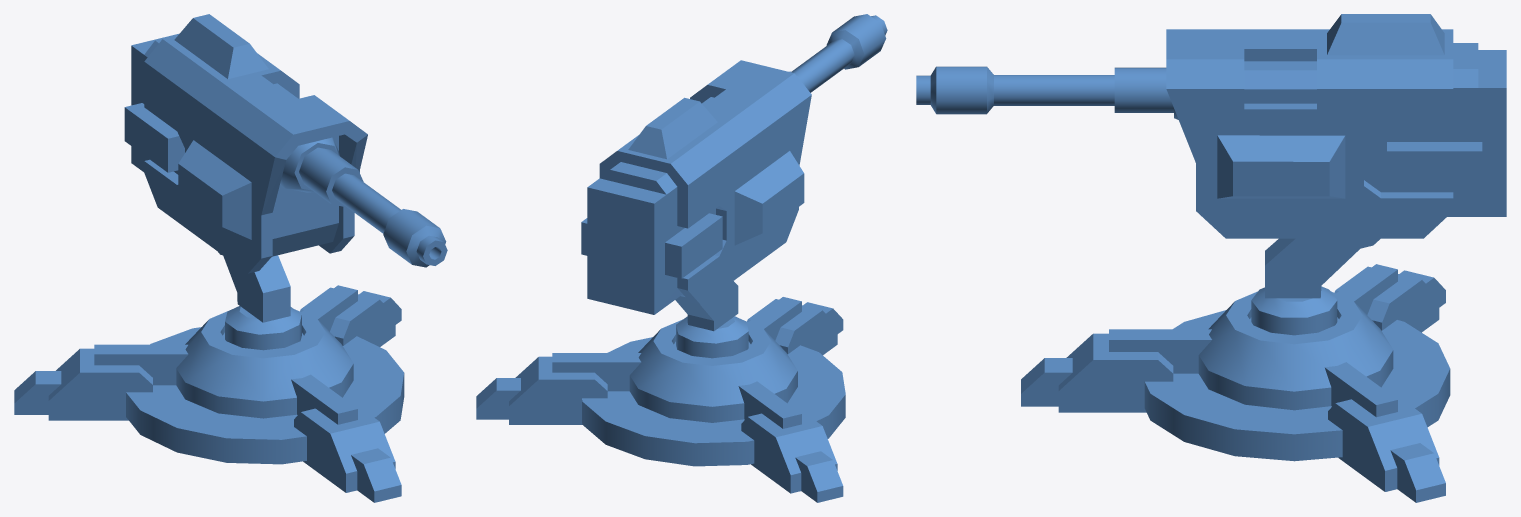
File: auto_turret_machine_gun_level_1.fbx
3 views of the same model, side by side, from view 1: azimuth 30°, elevation 25°; view 2: azimuth 150°, elevation 25°; view 3: azimuth 270°, elevation 25° (orthographic). The views are drawn at different scales.
Parts seen in each view (by area): view 1: base, main_part, pivoting_arm, cannon; view 2: base, main_part, pivoting_arm, cannon; view 3: main_part, base, pivoting_arm, cannon, breech.
Part boxes in pixels (left/top/right/bottom): base: left=14, top=285, right=404, bottom=502; main_part: left=124, top=14, right=367, bottom=273; pivoting_arm: left=218, top=252, right=301, bottom=350; cannon: left=332, top=173, right=447, bottom=267; base: left=476, top=297, right=845, bottom=502; main_part: left=581, top=60, right=811, bottom=314; pivoting_arm: left=675, top=281, right=748, bottom=358; cannon: left=791, top=14, right=887, bottom=92; main_part: left=1114, top=14, right=1506, bottom=238; base: left=1021, top=264, right=1450, bottom=502; pivoting_arm: left=1251, top=238, right=1380, bottom=335; cannon: left=916, top=66, right=1114, bottom=114; breech: left=1244, top=61, right=1316, bottom=103.
Size of the model in its own units: 217 by 186 by 261.
